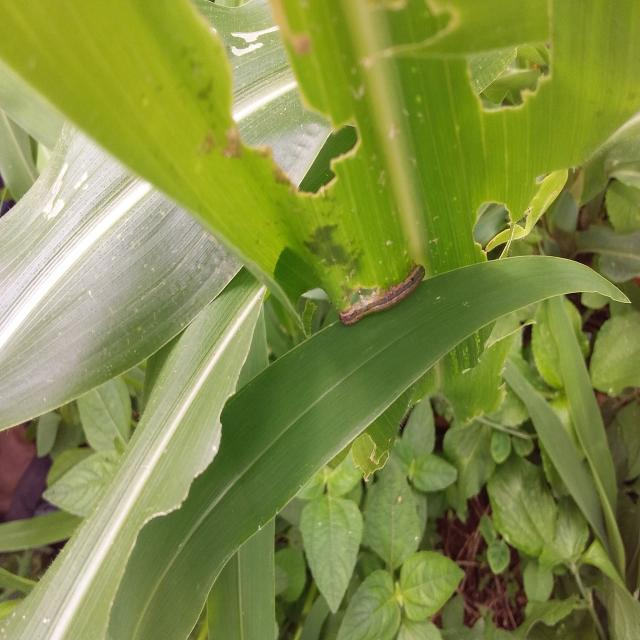yellow-stem-borer-larva: (327, 253, 439, 331)
